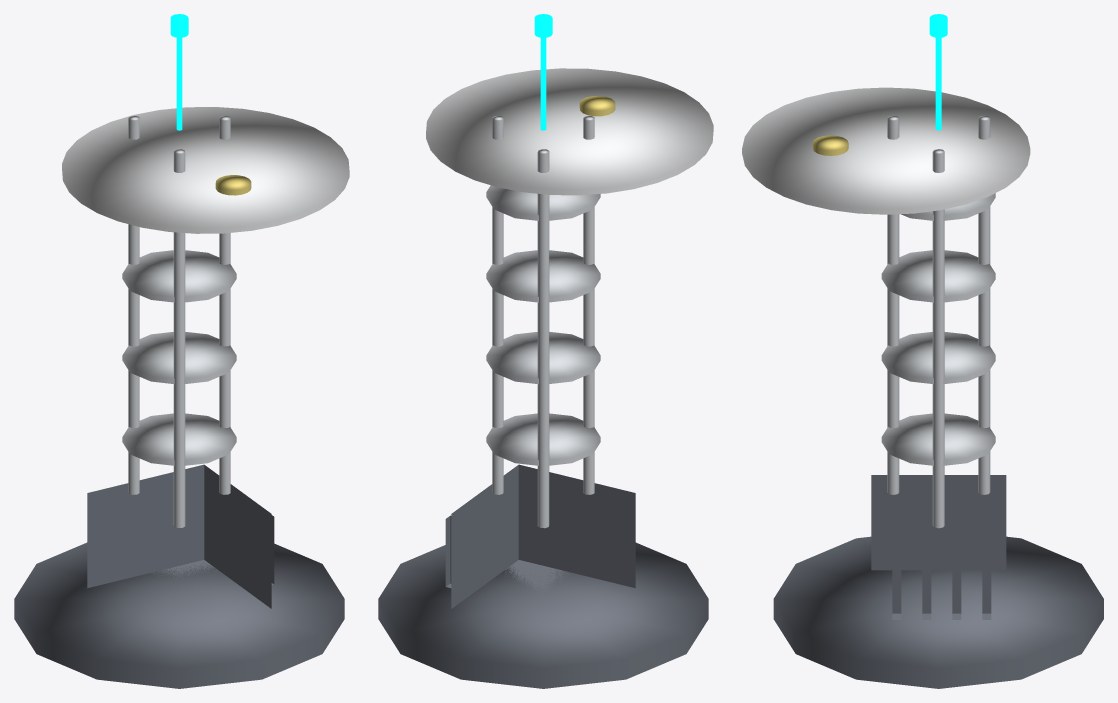
File: comms_mast.glb
3 renders of one model, left to right at view 1: azimuth 30°, elevation 25°; view 2: azimuth 150°, elevation 25°; view 3: azimuth 270°, elevation 25°, orthographic.
Visible parts, largest first — view 1: EquipmentRoot; view 2: EquipmentRoot; view 3: EquipmentRoot.
Boxes of the visible parts, box(x1,y1,x2,y2) form: EquipmentRoot: box(14, 14, 349, 688); EquipmentRoot: box(378, 14, 713, 688); EquipmentRoot: box(742, 14, 1103, 688).
Size of the model in its own units: 2.2 by 4.42 by 2.41.
